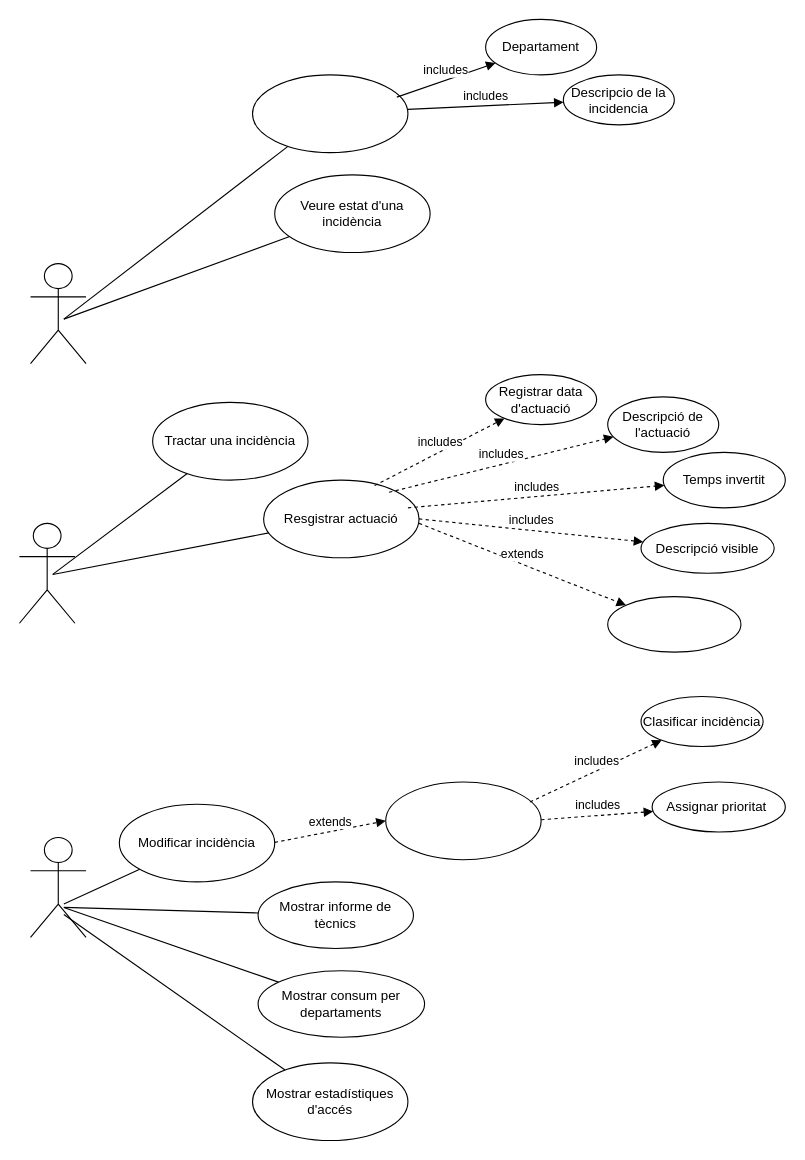
This 805x1160 diagram has some shape labels left out. Here are the shapes that lost their labels. From the top down, the box of each, then its label:
(251, 74, 408, 153): Crear incidència
(29, 263, 86, 364): Persona
(18, 522, 75, 623): Tècnic
(607, 596, 741, 652): Tancar incidència
(385, 781, 541, 860): Assignar incidència a un tècnic
(29, 836, 86, 937): Responsable informàtic
